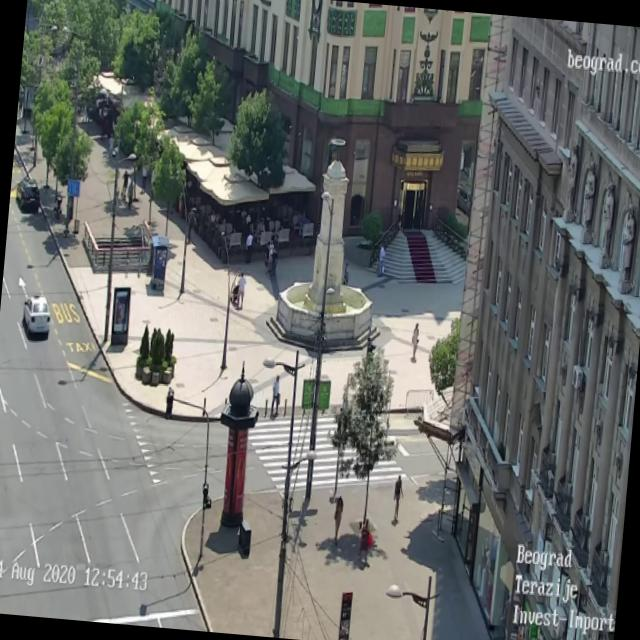car: (20, 293, 52, 337), (14, 178, 42, 208), (454, 182, 472, 215)
